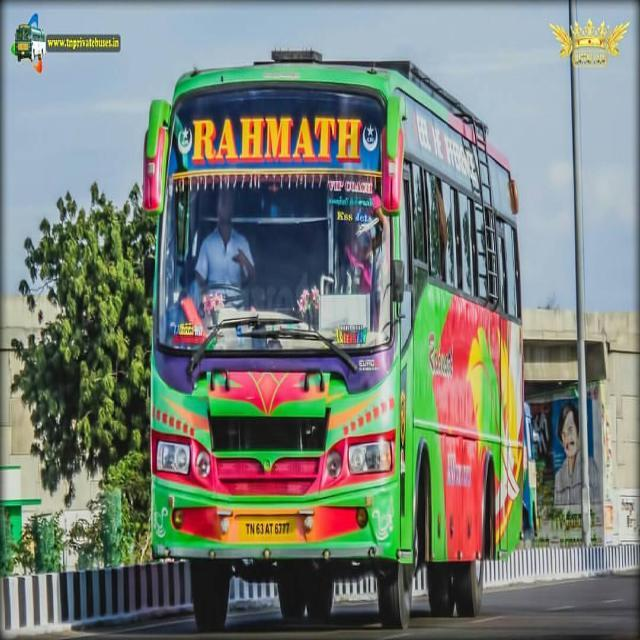Bus: (138, 44, 522, 634)
